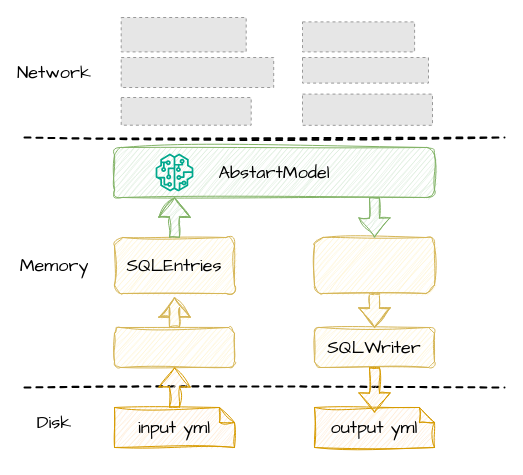
Some shapes in this 523 by 475 pixel diagram are drawn without their labels. Grey dashed boxes stand in for pictures. Here are the shapes that lost their labels. From the top down, the centre of each, then its label:
At (374,265): "Modified SQLEntries".
At (174,347): "SQLLoader".
